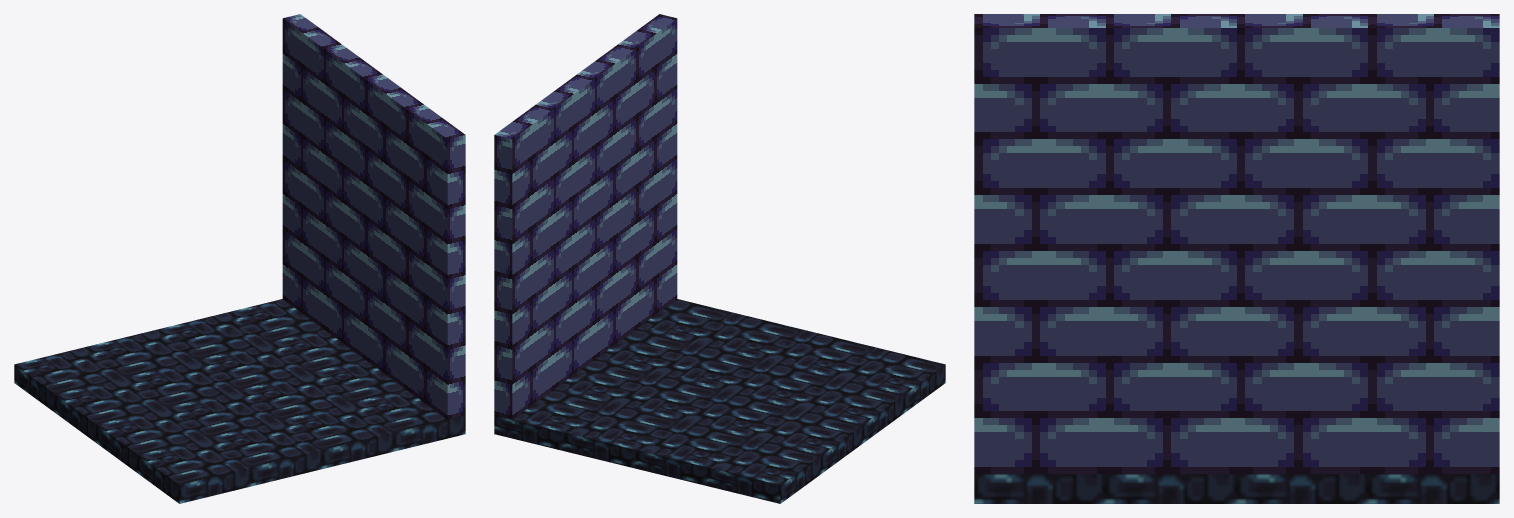
File: side_e.obj
3 views of the same model, side by side, from view 1: azimuth 30°, elevation 25°; view 2: azimuth 150°, elevation 25°; view 3: azimuth 270°, elevation 25° (orthographic). The views are drawn at different scales.
Parts seen in each view (by area): view 1: wall, floor; view 2: wall, floor; view 3: wall, floor.
Boxes of the visible parts, <box> form: wall: <box>282,14,465,419</box>; floor: <box>14,299,465,503</box>; wall: <box>494,14,677,419</box>; floor: <box>494,299,945,503</box>; wall: <box>974,14,1499,474</box>; floor: <box>974,474,1499,503</box>.
Bounding box in the file's own units: 16 × 16 × 16.
2 materials, 2 textured.
